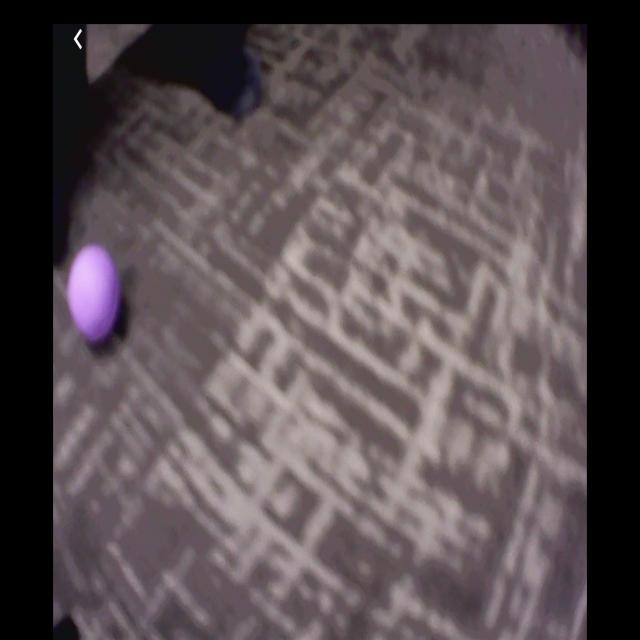ball: (67, 243, 122, 346)
